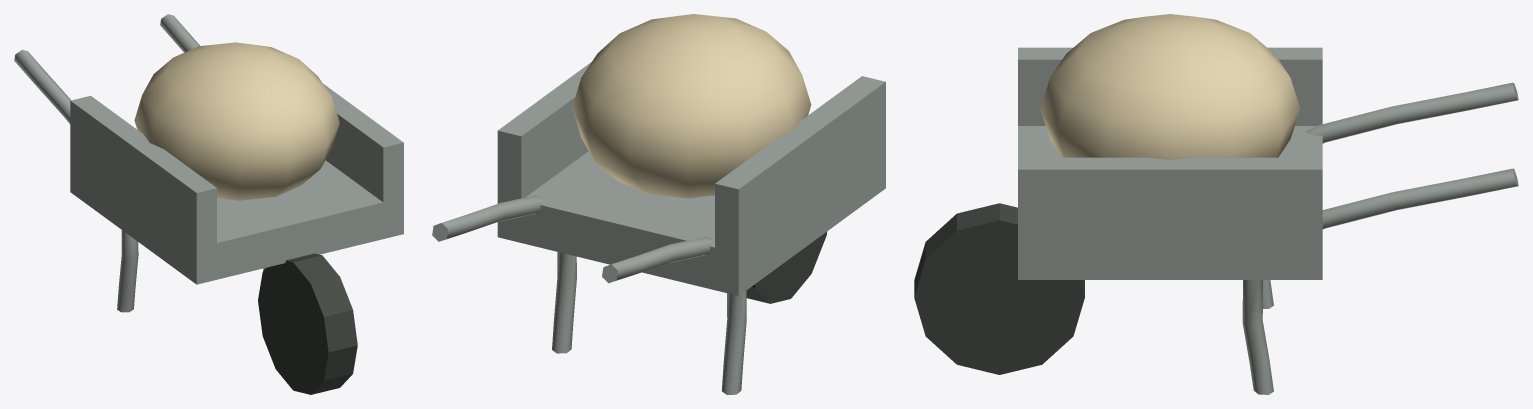
The model's file is zoo-and-safari-park-builder-wheelbarrow-of-hay-3f5d6036__21508.glb.
3 views of the same model, side by side, from view 1: azimuth 30°, elevation 25°; view 2: azimuth 150°, elevation 25°; view 3: azimuth 270°, elevation 25° (orthographic). The views are drawn at different scales.
Parts seen in each view (by area): view 1: wheelbarrow-of-hay; view 2: wheelbarrow-of-hay; view 3: wheelbarrow-of-hay.
Part boxes in pixels (x1,y1,x2,y2): wheelbarrow-of-hay: (14,14,403,394); wheelbarrow-of-hay: (432,14,885,394); wheelbarrow-of-hay: (914,14,1518,394).
Size of the model in its own units: 0.71 by 0.92 by 1.49.
